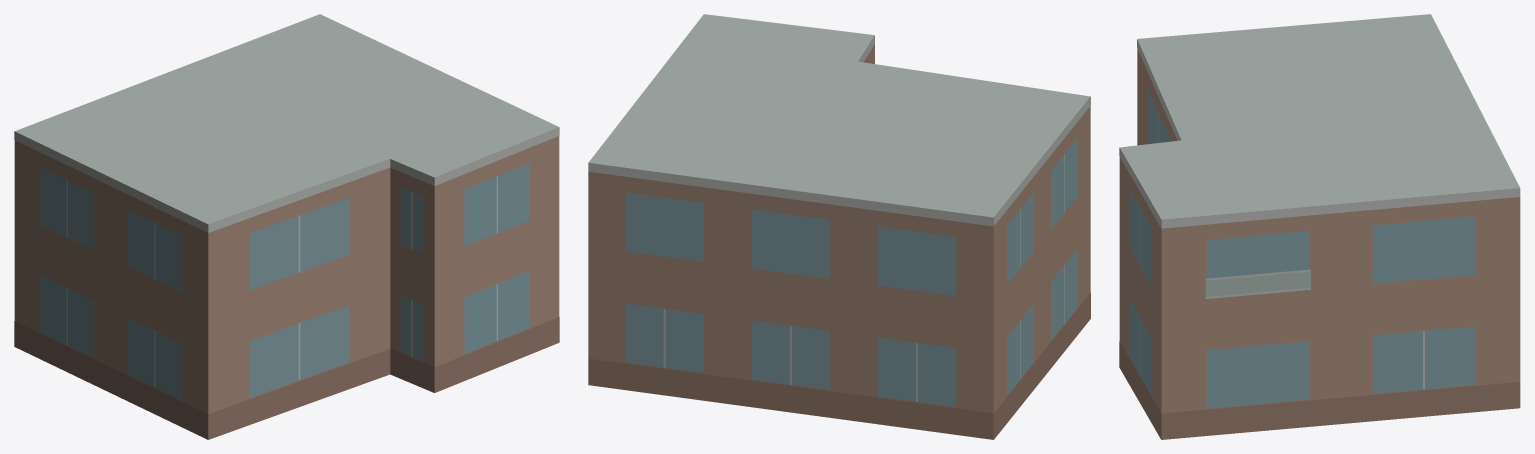
File: survey-upis-32616518.glb
3 renders of one model, left to right at view 1: azimuth 30°, elevation 25°; view 2: azimuth 150°, elevation 25°; view 3: azimuth 270°, elevation 25°, orthographic. The views are drawn at different scales.
Visible parts, largest first — view 1: survey-upis-32616518.tmp; view 2: survey-upis-32616518.tmp; view 3: survey-upis-32616518.tmp.
Boxes of the visible parts, x1,y1,x2,y2 form: survey-upis-32616518.tmp: (14,14,559,439); survey-upis-32616518.tmp: (588,14,1090,439); survey-upis-32616518.tmp: (1119,14,1520,439).
Size of the model in its own units: 12.25 by 6.1 by 10.08.
